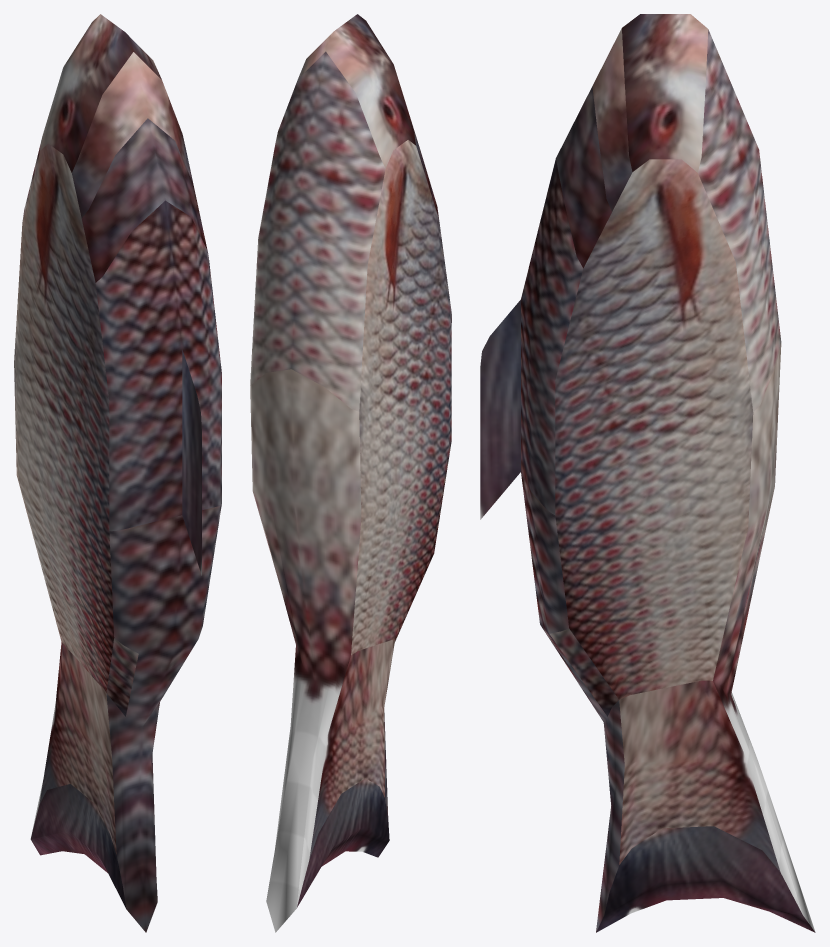
File: FISH01.glb
3 views of the same model, side by side, from view 1: azimuth 30°, elevation 25°; view 2: azimuth 150°, elevation 25°; view 3: azimuth 270°, elevation 25° (orthographic). The views are drawn at different scales.
Parts seen in each view (by area): view 1: FISH01; view 2: FISH01; view 3: FISH01.
Part boxes in pixels (<box>): FISH01: <box>14,14,221,932</box>; FISH01: <box>250,14,451,932</box>; FISH01: <box>480,14,815,932</box>.
Size of the model in its own units: 0.1548 by 1.12 by 0.3707.
Materials: 1 (1 with a texture image).
